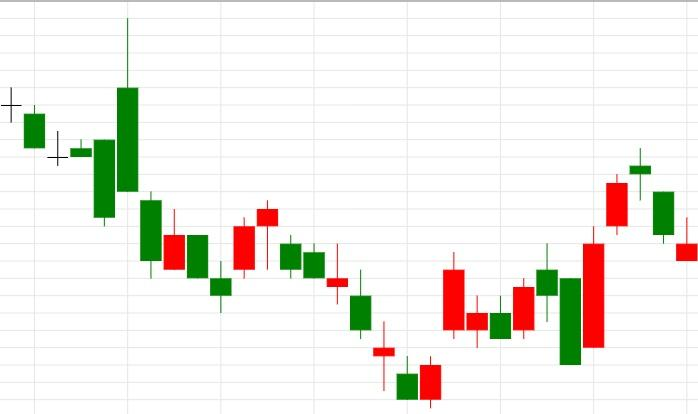bullish_engulfing_rise: (255, 200, 442, 409)
evening_star_fall: (559, 148, 675, 365)
hanging_man_fall: (209, 200, 279, 312)
